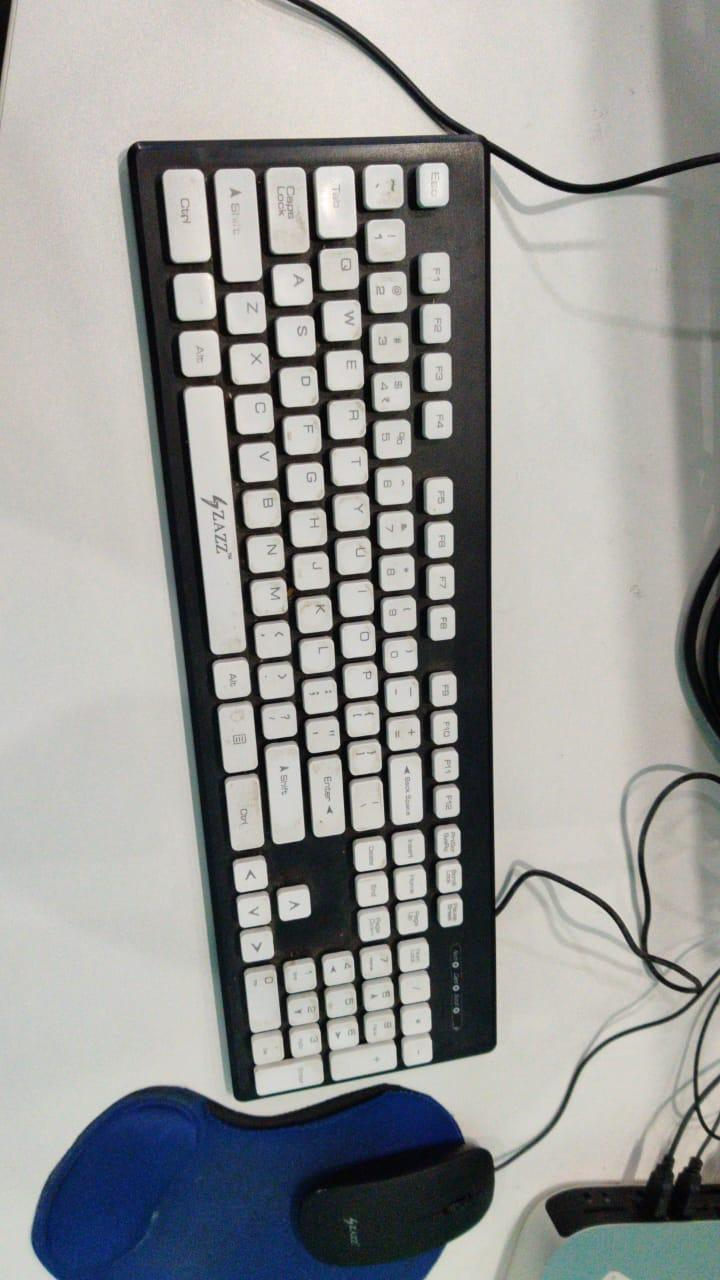keyboard: (97, 93, 560, 1119)
